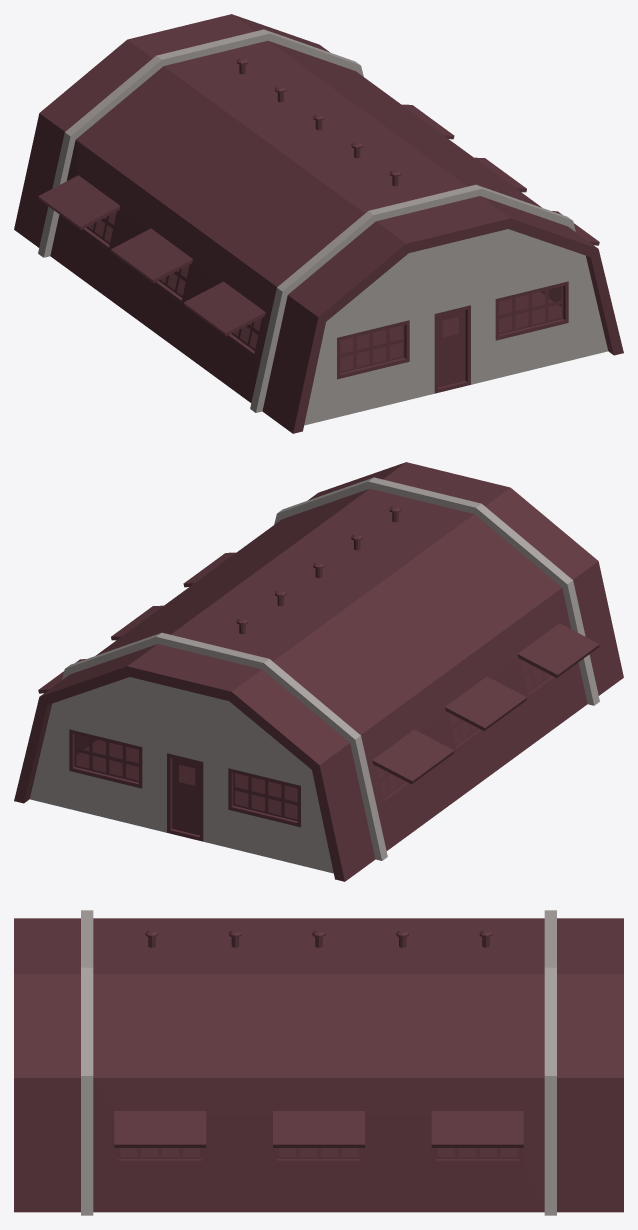
Rendered from military-barracks.fbx.
3 views of the same model, one above another, from view 1: azimuth 30°, elevation 25°; view 2: azimuth 150°, elevation 25°; view 3: azimuth 270°, elevation 25° (orthographic). The views are drawn at different scales.
Parts seen in each view (by area): view 1: military-barracks; view 2: military-barracks; view 3: military-barracks.
Boxes of the visible parts, bbox=[...] form: military-barracks: bbox=[14, 14, 623, 433]; military-barracks: bbox=[14, 462, 623, 881]; military-barracks: bbox=[14, 910, 623, 1215].
Bounding box in the file's own units: 11.31 × 5.08 × 14.6.
